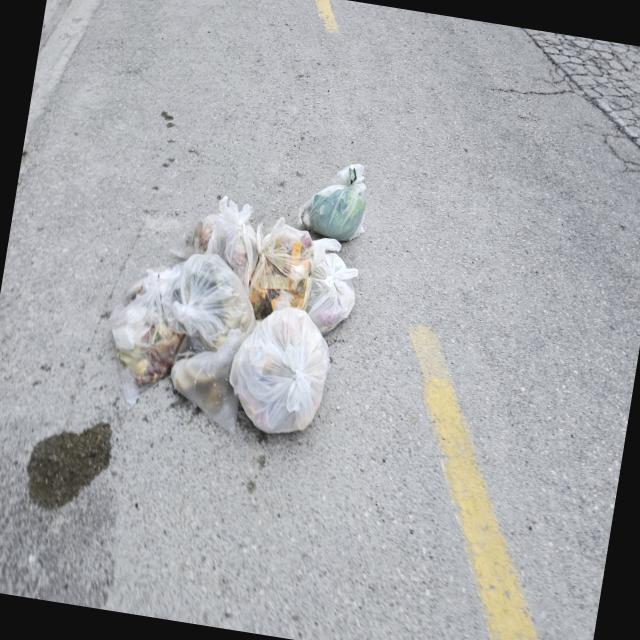white_bag: (92, 236, 264, 437), (220, 297, 340, 444), (241, 211, 326, 329), (291, 148, 383, 248), (292, 232, 370, 344), (182, 188, 264, 290)
